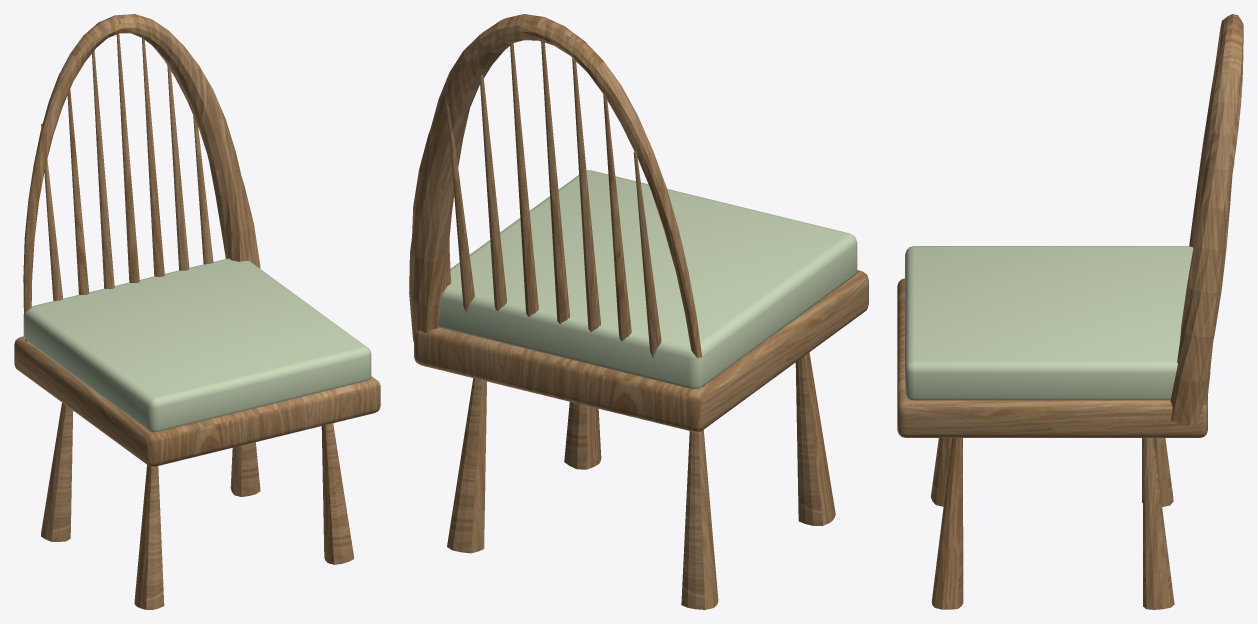
The model's file is breakfast-chair.glb.
3 renders of one model, left to right at view 1: azimuth 30°, elevation 25°; view 2: azimuth 150°, elevation 25°; view 3: azimuth 270°, elevation 25°, orthographic. The views are drawn at different scales.
Visible parts, largest first — view 1: catalog_surface_RealismUV; view 2: catalog_surface_RealismUV; view 3: catalog_surface_RealismUV.
Boxes of the visible parts, x1,y1,x2,y2 form: catalog_surface_RealismUV: [14, 14, 380, 609]; catalog_surface_RealismUV: [409, 14, 868, 609]; catalog_surface_RealismUV: [897, 14, 1243, 609].
Bounding box in the file's own units: 0.45 × 0.85 × 0.5.
2 materials, 1 textured.
